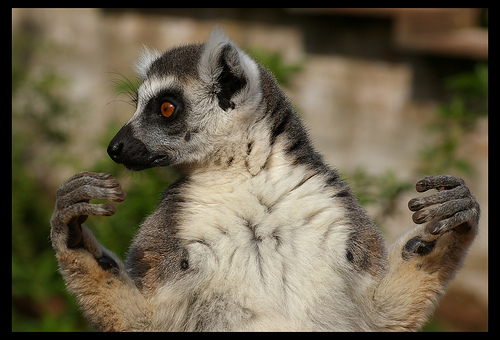cat: (50, 29, 480, 335)
